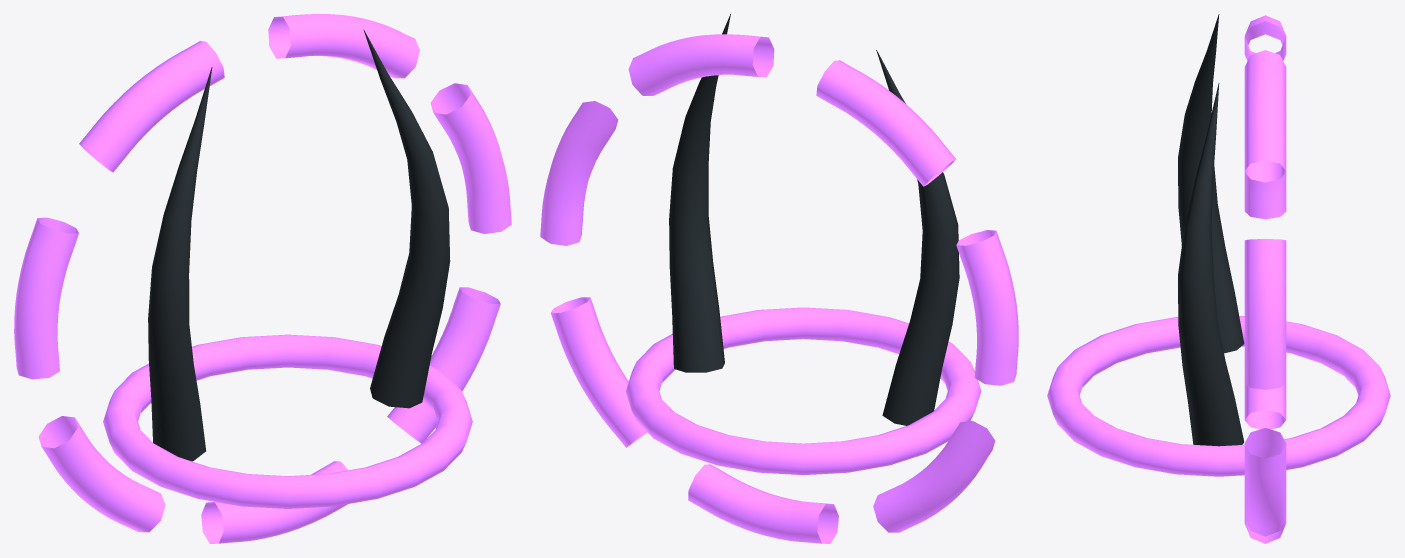
File: VoidCrown.fbx
The picture shows the model from 3 angles, left to right: view 1: azimuth 30°, elevation 25°; view 2: azimuth 150°, elevation 25°; view 3: azimuth 270°, elevation 25°; orthographic projection. The views are drawn at different scales.
Visible parts, largest first — view 1: Crown circlet.004_export, Void horn.001_export, Void horn_export, Broken void halo.002_export, Broken void halo.003_export, Broken void halo_export, Broken void halo.004_export, Broken void halo.001_export, Broken void halo.006_export, Broken void halo.005_export; view 2: Crown circlet.004_export, Void horn.001_export, Void horn_export, Broken void halo.002_export, Broken void halo.003_export, Broken void halo.005_export, Broken void halo_export, Broken void halo.004_export, Broken void halo.001_export, Broken void halo.006_export; view 3: Crown circlet.004_export, Void horn.001_export, Broken void halo_export, Void horn_export, Broken void halo.001_export, Broken void halo.006_export, Broken void halo.004_export, Broken void halo.003_export, Broken void halo.002_export.
Part boxes in pixels (bbox=[...]): Crown circlet.004_export: bbox=[103, 334, 472, 508]; Void horn.001_export: bbox=[363, 29, 450, 408]; Void horn_export: bbox=[148, 67, 212, 461]; Broken void halo.002_export: bbox=[79, 41, 224, 172]; Broken void halo.003_export: bbox=[14, 217, 78, 379]; Broken void halo_export: bbox=[430, 83, 511, 233]; Broken void halo.004_export: bbox=[38, 416, 165, 532]; Broken void halo.001_export: bbox=[268, 14, 419, 78]; Broken void halo.006_export: bbox=[387, 287, 500, 443]; Broken void halo.005_export: bbox=[201, 461, 347, 543]; Crown circlet.004_export: bbox=[625, 307, 981, 475]; Void horn.001_export: bbox=[669, 14, 730, 372]; Void horn_export: bbox=[876, 50, 959, 425]; Broken void halo.002_export: bbox=[816, 60, 955, 186]; Broken void halo.003_export: bbox=[956, 230, 1018, 385]; Broken void halo.005_export: bbox=[688, 464, 838, 543]; Broken void halo_export: bbox=[540, 101, 618, 245]; Broken void halo.004_export: bbox=[873, 421, 995, 532]; Broken void halo.001_export: bbox=[628, 34, 774, 95]; Broken void halo.006_export: bbox=[551, 297, 646, 447]; Crown circlet.004_export: bbox=[1047, 316, 1390, 476]; Void horn.001_export: bbox=[1178, 83, 1244, 446]; Broken void halo_export: bbox=[1244, 239, 1286, 389]; Void horn_export: bbox=[1178, 14, 1244, 353]; Broken void halo.001_export: bbox=[1244, 50, 1286, 182]; Broken void halo.006_export: bbox=[1244, 428, 1286, 536]; Broken void halo.004_export: bbox=[1244, 383, 1286, 429]; Broken void halo.003_export: bbox=[1244, 172, 1286, 219]; Broken void halo.002_export: bbox=[1244, 15, 1286, 60].
Size of the model in its own units: 228 by 228 by 148.
